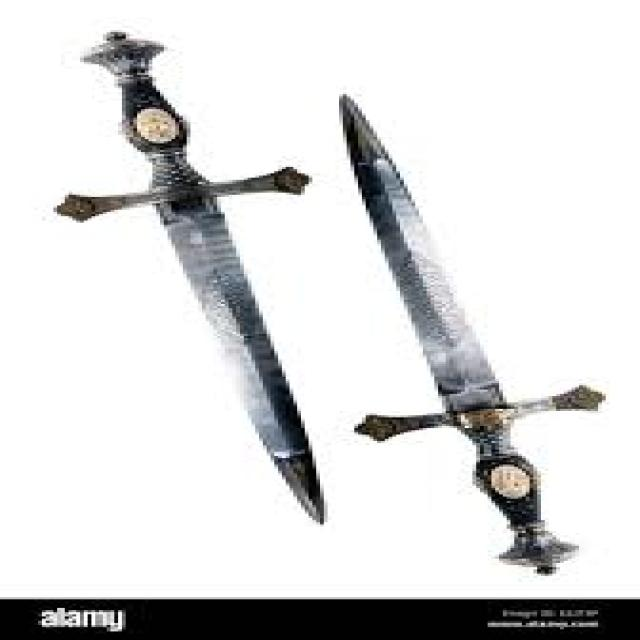Gun: (262, 97, 634, 596), (29, 16, 340, 545)
